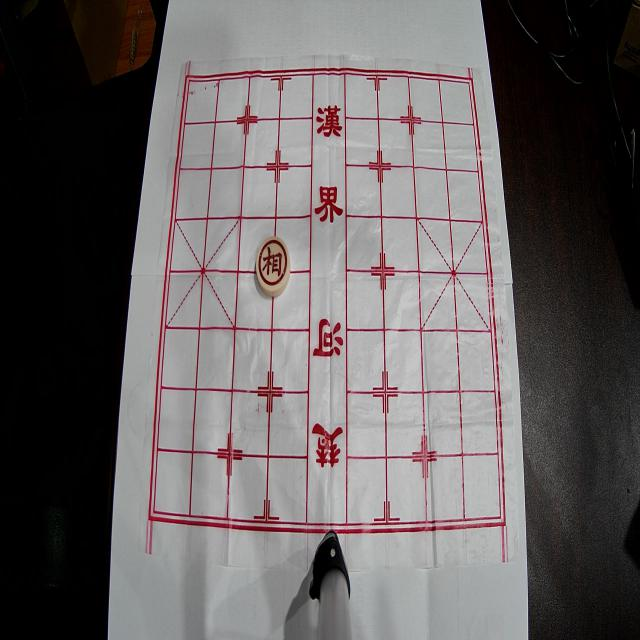red-elephant: (256, 236, 290, 296)
